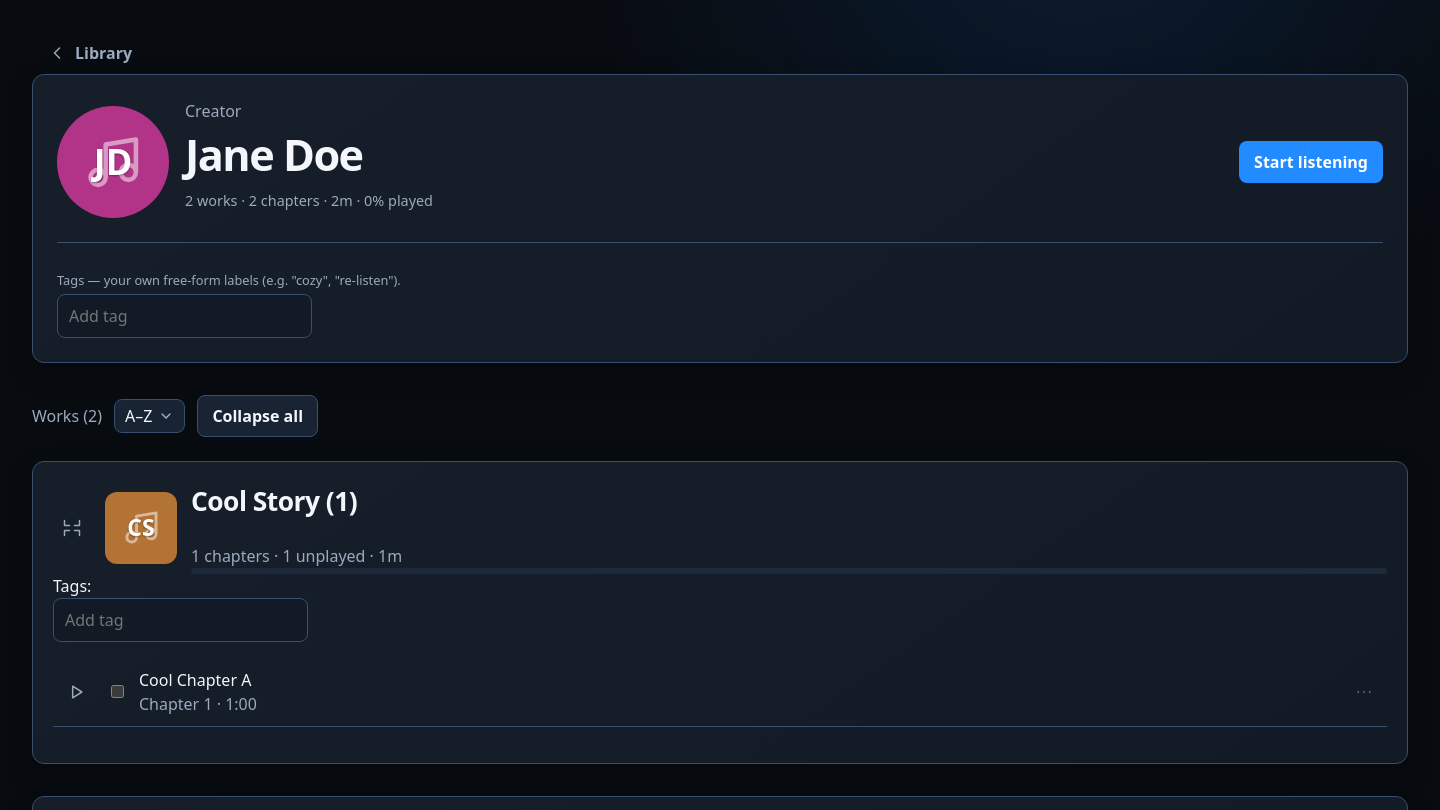
Test case: AuthorDetailView › per-work collapse toggle hides only that work's chapters
The width and height of the screenshot is (1440, 810).
Expected: the text "Cool Chapter A" is shown, [139,668,251,690]
Collapse only "Cool Story".
Click the button named "Collapse 'Cool Story'". click: (72, 528)
box: [53,509,91,547]
(page scrolled)
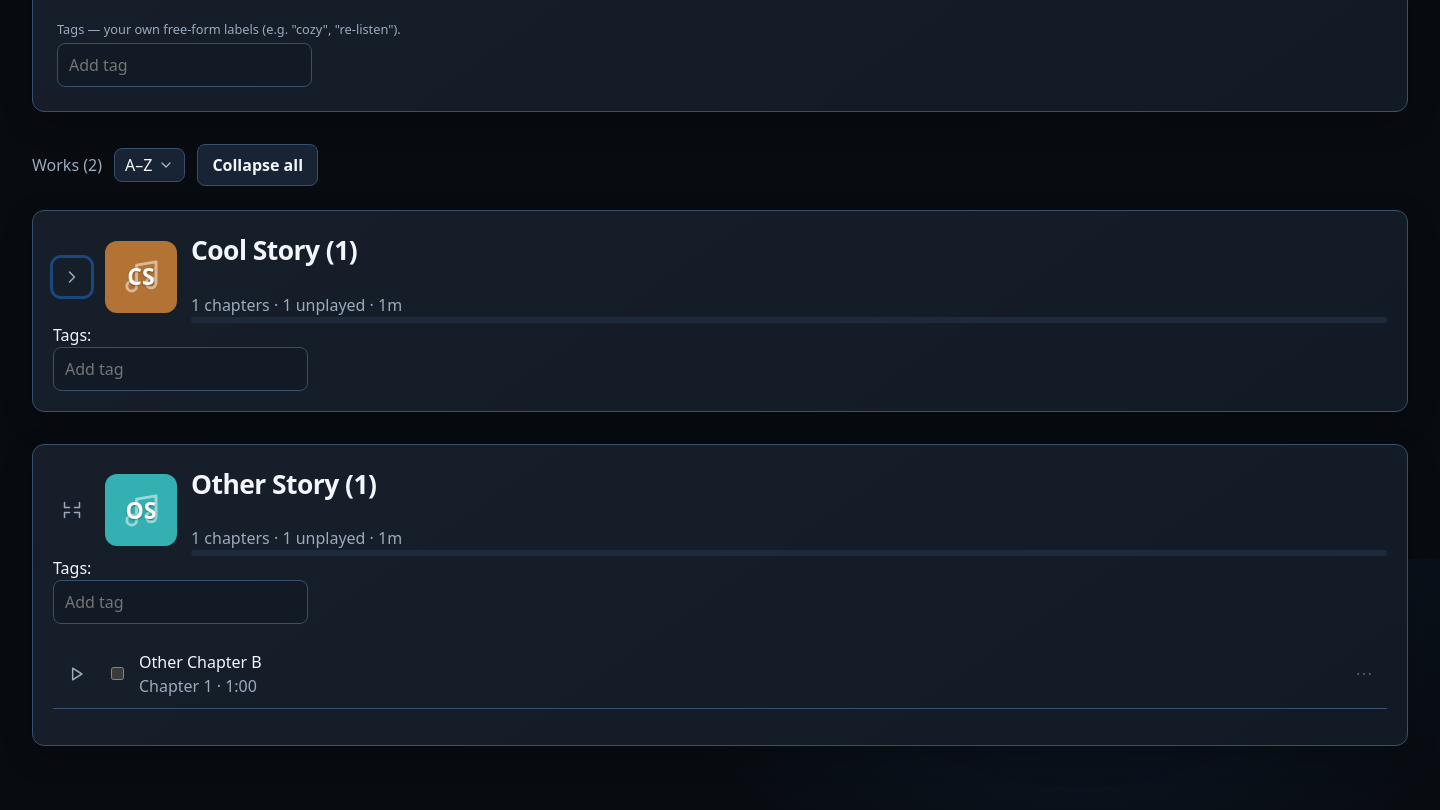
Expected: the text "Other Chapter B" is shown, [139,651,262,673]
Result: the text "Cool Chapter A" is gone
